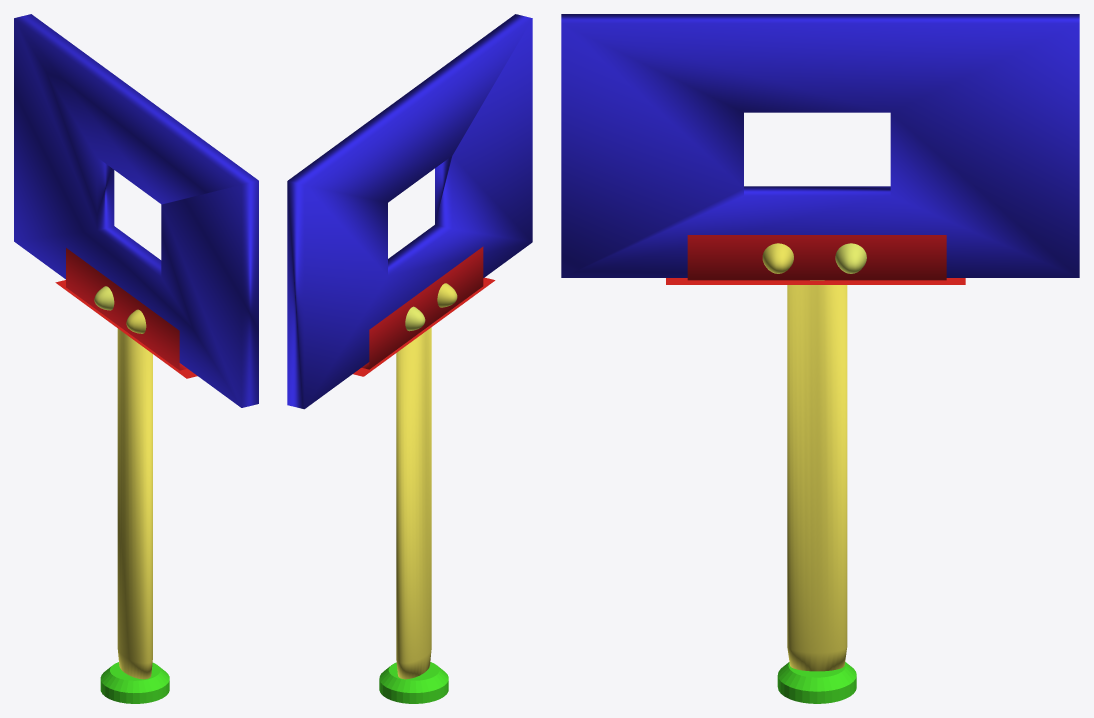
The model's file is obst2.fbx.
The picture shows the model from 3 angles, left to right: view 1: azimuth 30°, elevation 25°; view 2: azimuth 150°, elevation 25°; view 3: azimuth 270°, elevation 25°; orthographic projection. The views are drawn at different scales.
Parts seen in each view (by area): view 1: Plane; view 2: Plane; view 3: Plane.
Part boxes in pixels (x1=…): Plane: x1=14, y1=14, x2=258, y2=703; Plane: x1=287, y1=14, x2=532, y2=703; Plane: x1=561, y1=14, x2=1079, y2=703.
Bounding box in the file's own units: 200 × 1872 × 1313.
